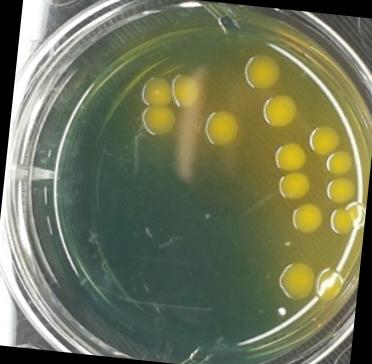vharveyi: (274, 258, 316, 302), (258, 91, 301, 132), (241, 52, 284, 92), (200, 108, 240, 150), (328, 201, 366, 240), (138, 102, 176, 141), (288, 200, 325, 236), (305, 121, 341, 158), (311, 266, 345, 304), (168, 71, 202, 109), (270, 139, 306, 174), (138, 74, 173, 110), (274, 169, 312, 202), (322, 172, 358, 206), (322, 147, 356, 180)
